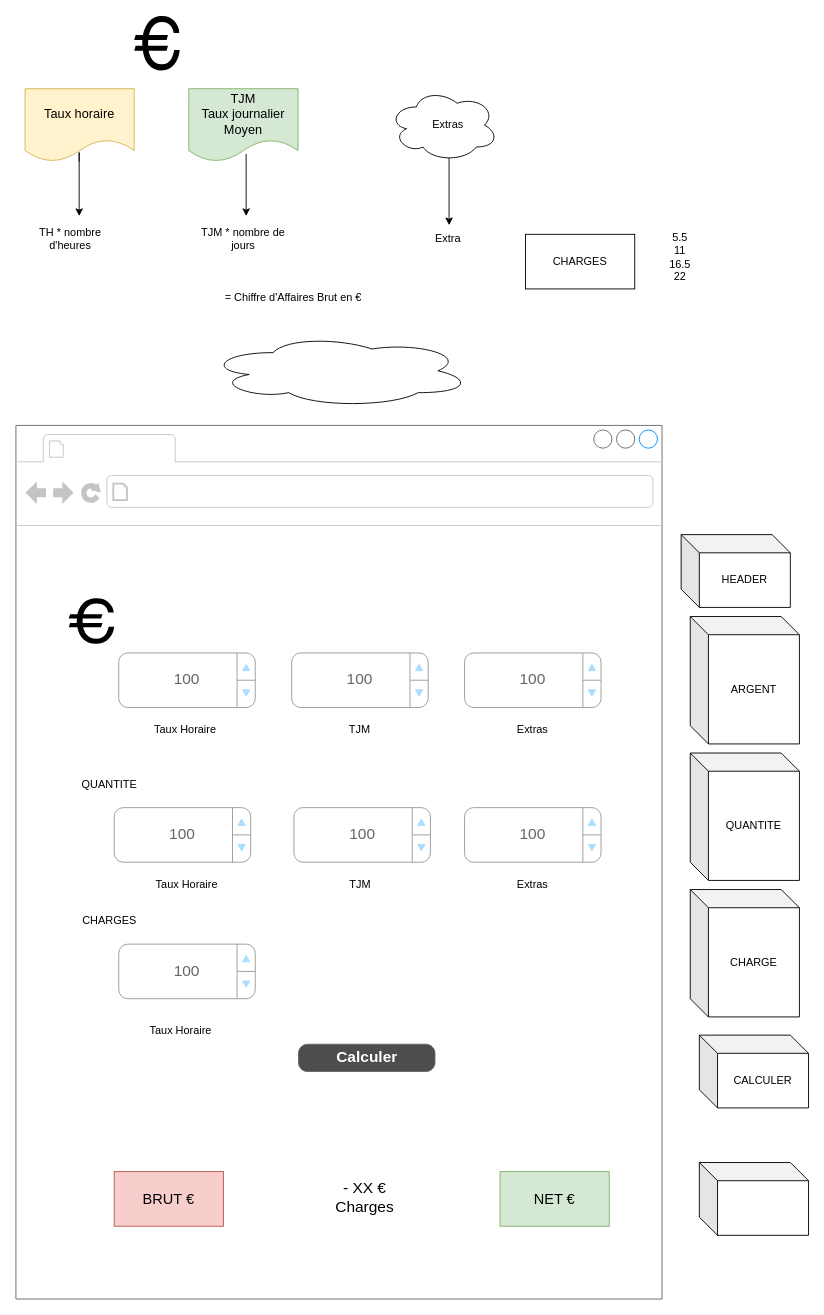
This 824x1315 diagram has some shape labels left out. The shapes that lost their labels are listed below. From the top down, each one's centre as x and y in pixels, then its label:
the point at 338,370: CA - X% de charges
the point at 120,447: Page 1
the point at 247,491: https://www.draw.io
